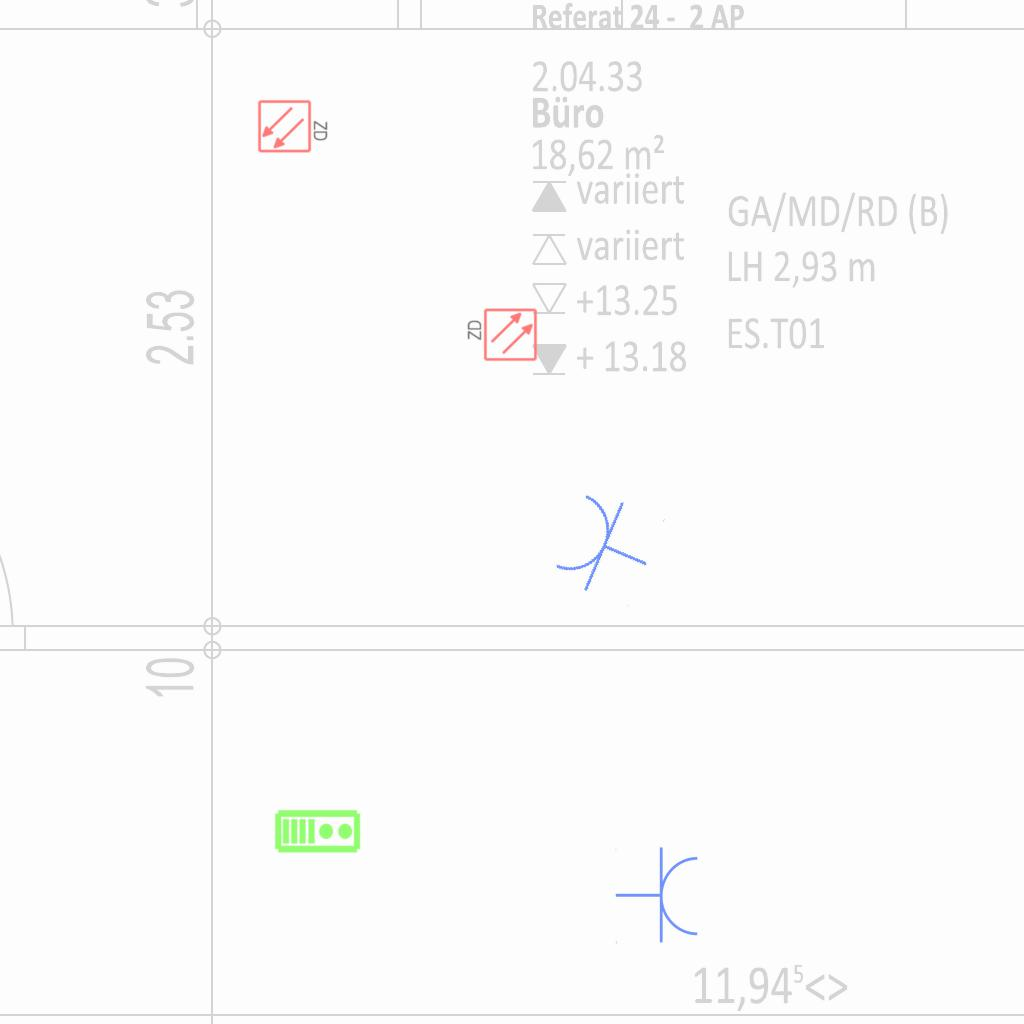Gegensprechanlage_mit_Video: (274, 807, 362, 854)
Schukosteckdose_einfach: (547, 483, 667, 610), (615, 846, 702, 946)
ZD_Melder_in_Zwischendecke_mit_Revisionsoeffnung_mind_40_x_40_cm: (257, 97, 331, 154), (464, 307, 538, 364)
